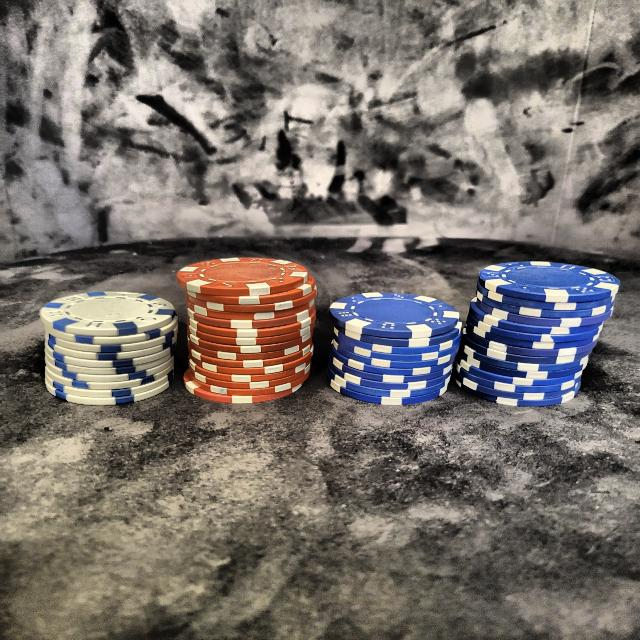Chip: (171, 232, 321, 416), (459, 243, 615, 416), (39, 268, 183, 414), (327, 280, 464, 406)
